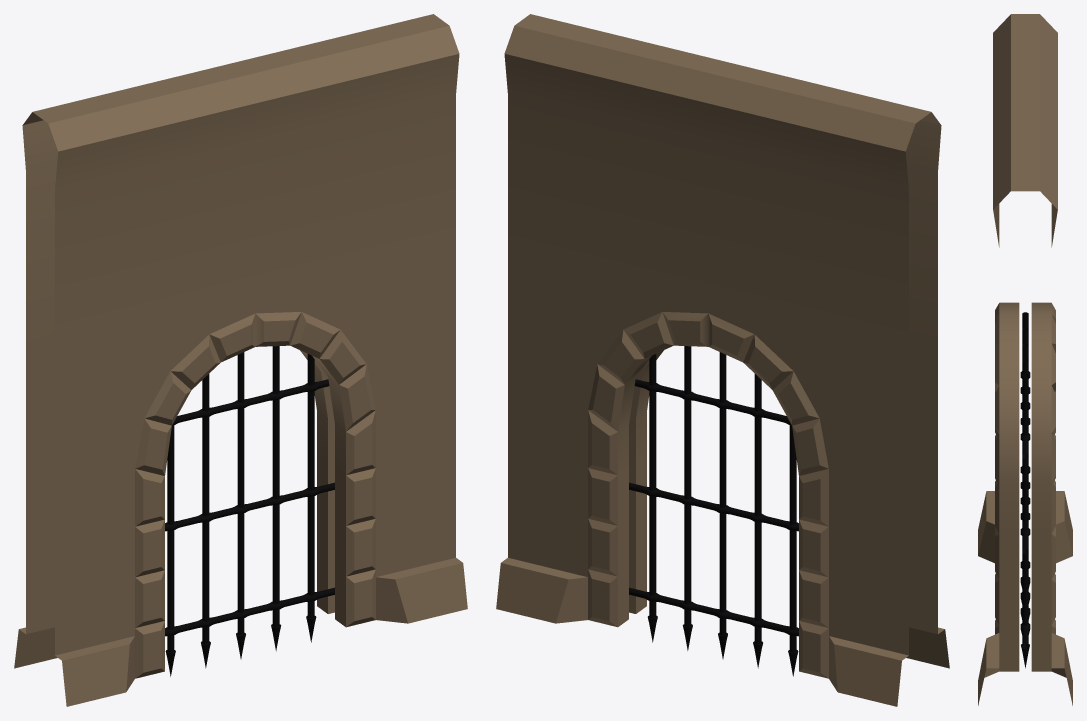
The model's file is gate.FBX.
3 views of the same model, side by side, from view 1: azimuth 30°, elevation 25°; view 2: azimuth 150°, elevation 25°; view 3: azimuth 270°, elevation 25° (orthographic). The views are drawn at different scales.
Visible parts, largest first — view 1: gate_wall_segment, gate, portcullis; view 2: gate_wall_segment, gate, portcullis; view 3: gate, gate_wall_segment, portcullis.
Part boxes in pixels (box(x1,y1,x2,y2)): gate_wall_segment: box(14, 14, 467, 706); gate: box(135, 312, 375, 678); portcullis: box(165, 346, 334, 676); gate_wall_segment: box(496, 14, 949, 706); gate: box(588, 312, 828, 678); portcullis: box(629, 346, 798, 676); gate: box(995, 302, 1055, 671); gate_wall_segment: box(978, 14, 1072, 705); portcullis: box(1020, 312, 1030, 668).
Bounding box in the file's own units: 400 × 563 × 90.57.
